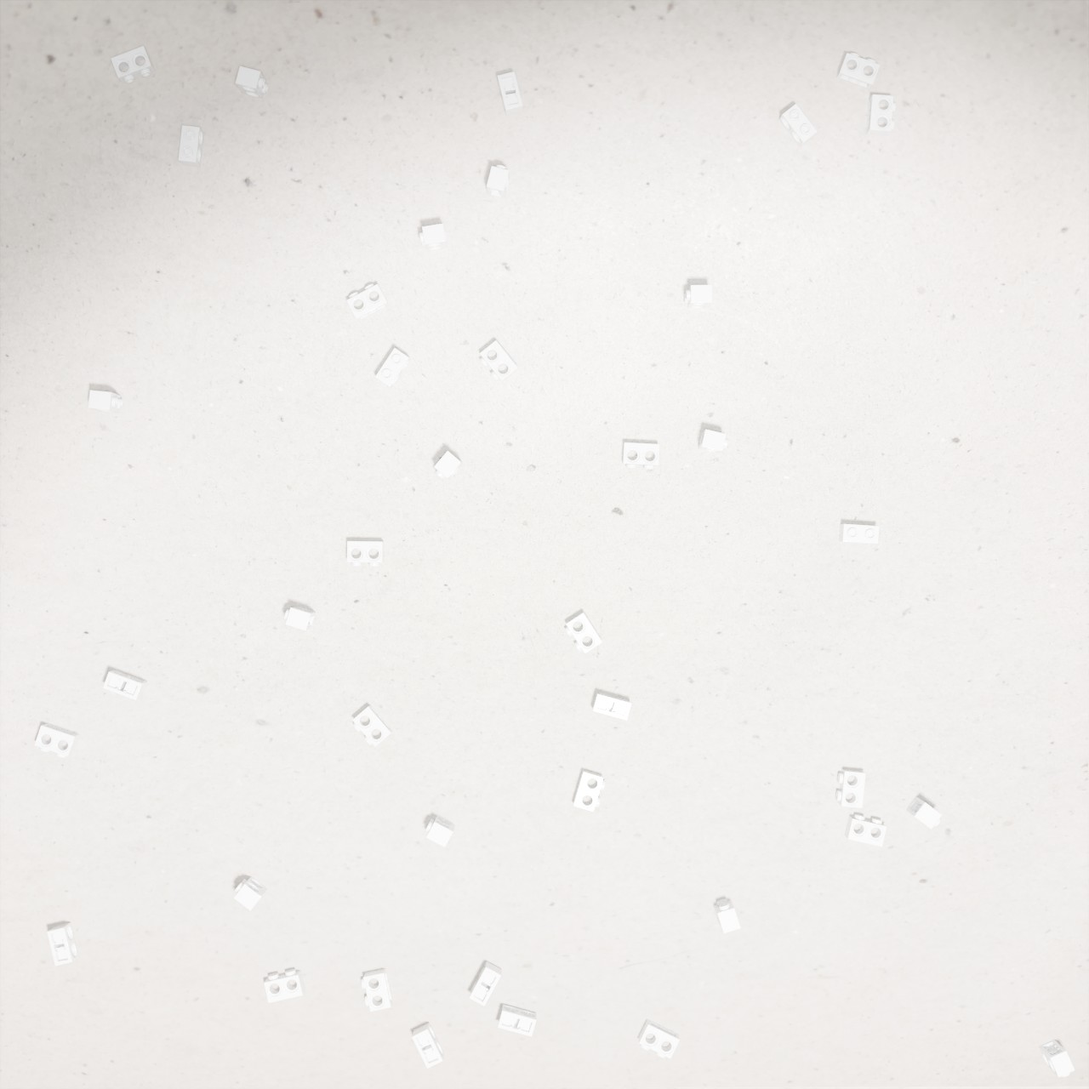lego: (352, 705, 393, 747), (779, 104, 818, 148), (110, 45, 155, 83), (638, 1019, 680, 1059), (479, 340, 518, 383), (564, 612, 603, 654), (346, 284, 389, 322), (836, 53, 880, 90), (34, 723, 80, 758), (469, 961, 502, 1007), (375, 348, 411, 389), (412, 1023, 444, 1069), (264, 969, 306, 1003), (573, 769, 606, 812), (844, 814, 887, 847), (47, 922, 79, 966), (361, 968, 393, 1012), (1039, 1039, 1075, 1078), (103, 670, 147, 700), (498, 1004, 537, 1037), (866, 94, 896, 136), (233, 876, 268, 911), (906, 796, 942, 829), (497, 71, 523, 116), (836, 769, 866, 808), (592, 692, 632, 720), (178, 125, 204, 167), (235, 66, 268, 99), (622, 442, 660, 469), (713, 899, 741, 934), (425, 816, 455, 848), (347, 541, 384, 566), (434, 451, 463, 480), (486, 165, 510, 199), (419, 223, 448, 251), (88, 390, 123, 413), (839, 524, 879, 544), (284, 606, 316, 631), (698, 429, 728, 454), (684, 285, 712, 308)
